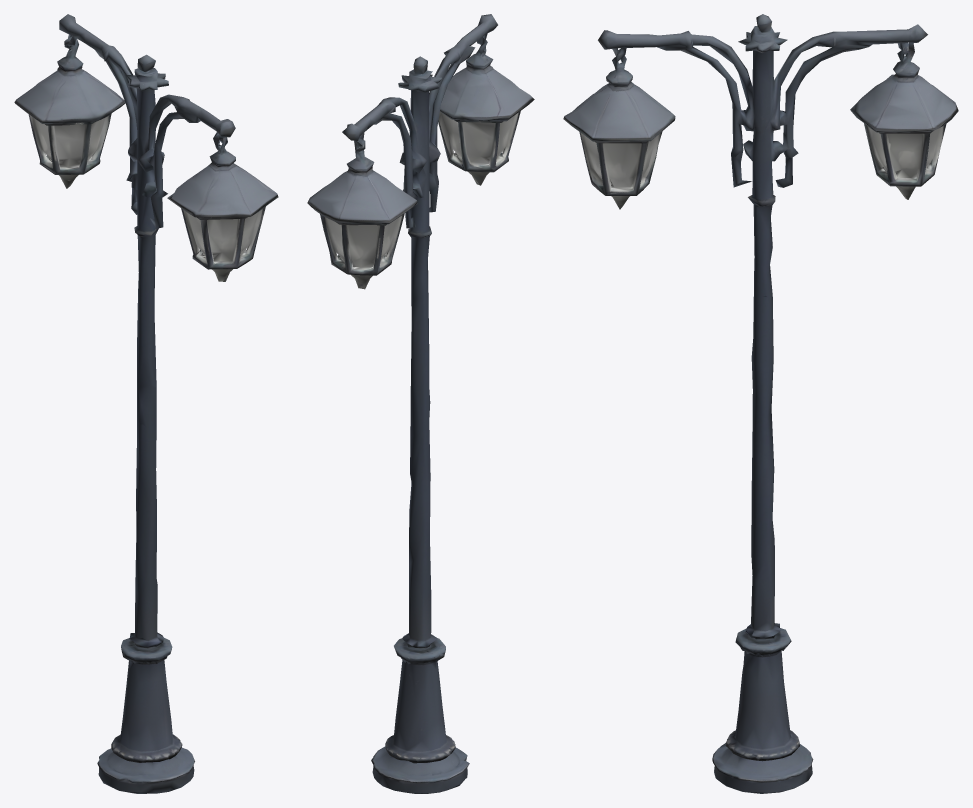
3 renders of one model, left to right at view 1: azimuth 30°, elevation 25°; view 2: azimuth 150°, elevation 25°; view 3: azimuth 270°, elevation 25°, orthographic. The views are drawn at different scales.
Parts seen in each view (by area): view 1: tripo_node_e9956785-79e0-4e5f-a1e5-bfbd2978dd05; view 2: tripo_node_e9956785-79e0-4e5f-a1e5-bfbd2978dd05; view 3: tripo_node_e9956785-79e0-4e5f-a1e5-bfbd2978dd05.
Part boxes in pixels (bbox=[...]): tripo_node_e9956785-79e0-4e5f-a1e5-bfbd2978dd05: bbox=[14, 14, 278, 793]; tripo_node_e9956785-79e0-4e5f-a1e5-bfbd2978dd05: bbox=[307, 14, 534, 793]; tripo_node_e9956785-79e0-4e5f-a1e5-bfbd2978dd05: bbox=[563, 14, 958, 793].
Size of the model in its own units: 0.1499 by 1 by 0.4724.
Materials: 1 (1 with a texture image).
